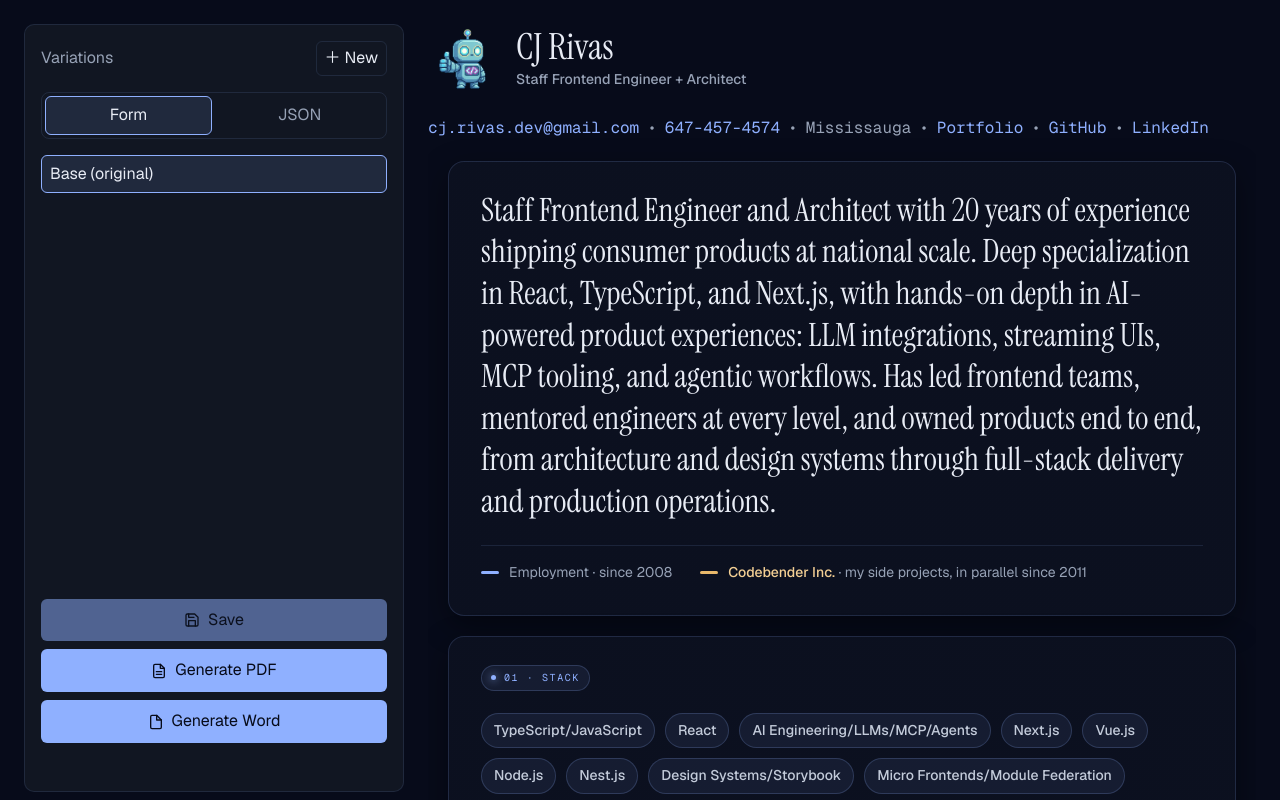
Scenario: EditResumeApp › switches to the JSON view and shows the resume as JSON
Step 1. Click the button "JSON" → (300, 115), box [216,96,383,135]
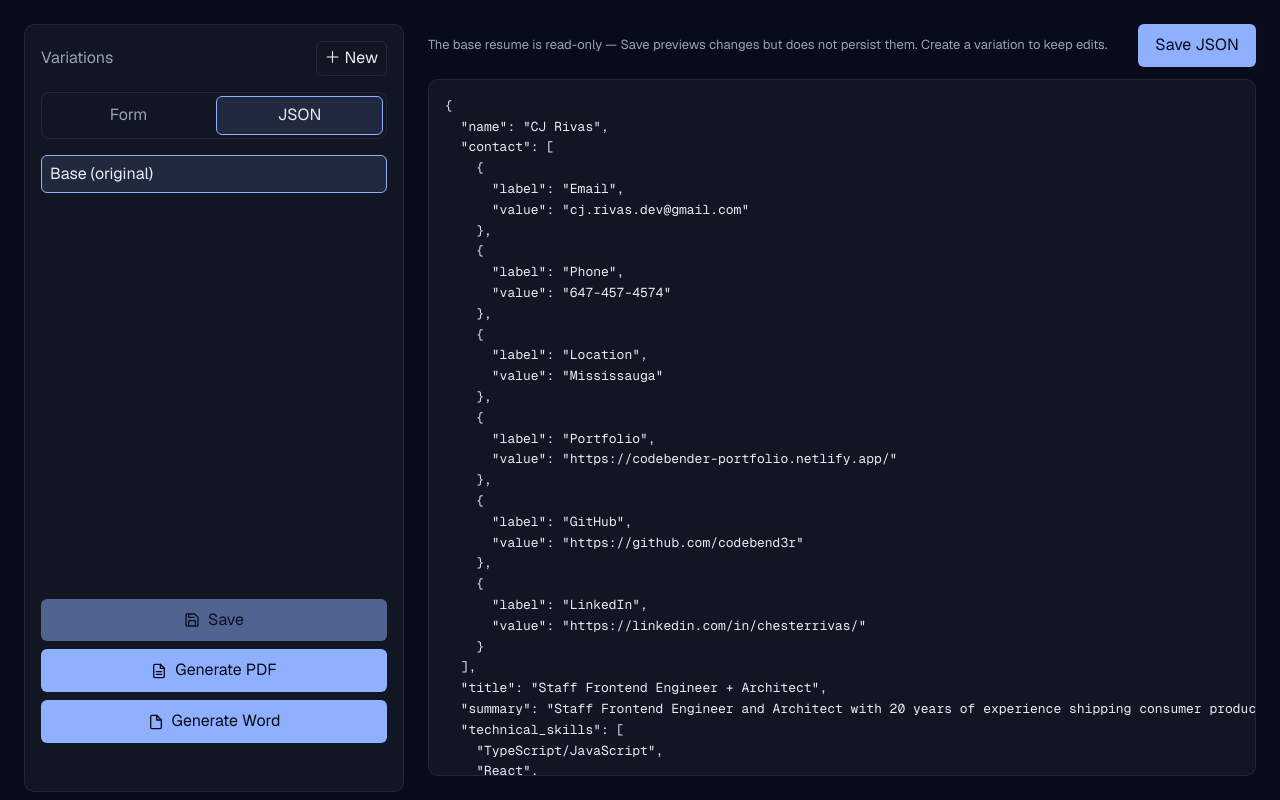
expect the text box named "Resume JSON" is shown: met, box [428,79,1256,776]
